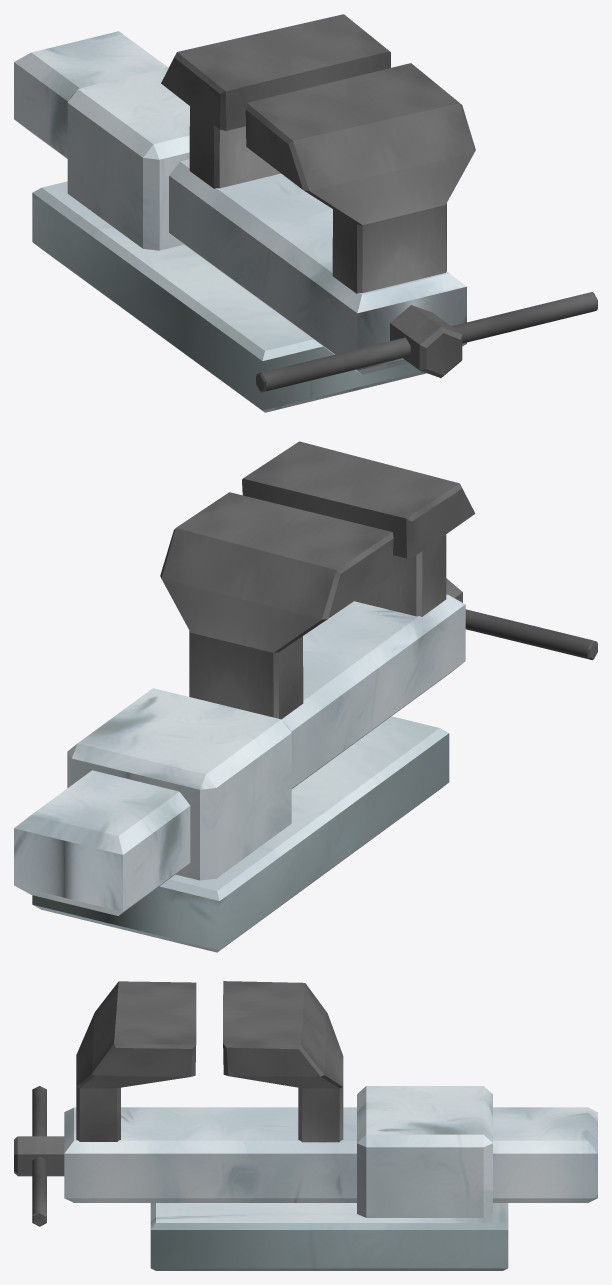
File: Vise.fbx
The picture shows the model from 3 angles, top to bottom: view 1: azimuth 30°, elevation 25°; view 2: azimuth 150°, elevation 25°; view 3: azimuth 270°, elevation 25°; orthographic projection. The views are drawn at different scales.
Parts seen in each view (by area): view 1: Structure, Metal, Metal4, Handle; view 2: Structure, Metal4, Metal, Handle; view 3: Structure, Metal4, Metal, Handle.
Part boxes in pixels (bbox=[...]): Structure: bbox=[14, 31, 466, 412]; Metal: bbox=[245, 63, 475, 293]; Metal4: bbox=[161, 14, 390, 188]; Handle: bbox=[256, 292, 597, 392]; Structure: bbox=[14, 594, 465, 952]; Metal4: bbox=[160, 492, 393, 719]; Metal: bbox=[242, 441, 475, 616]; Handle: bbox=[446, 578, 597, 660]; Structure: bbox=[64, 1086, 597, 1270]; Metal4: bbox=[223, 981, 343, 1142]; Metal: bbox=[76, 981, 196, 1141]; Handle: bbox=[14, 1086, 64, 1226].
Bounding box in the file's own units: 31.76 × 26.24 × 61.86.
